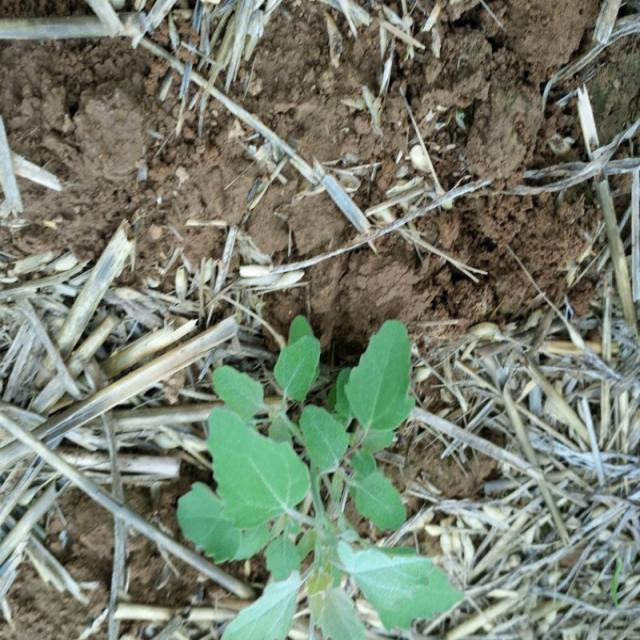goosefoots: (174, 324, 459, 630)
